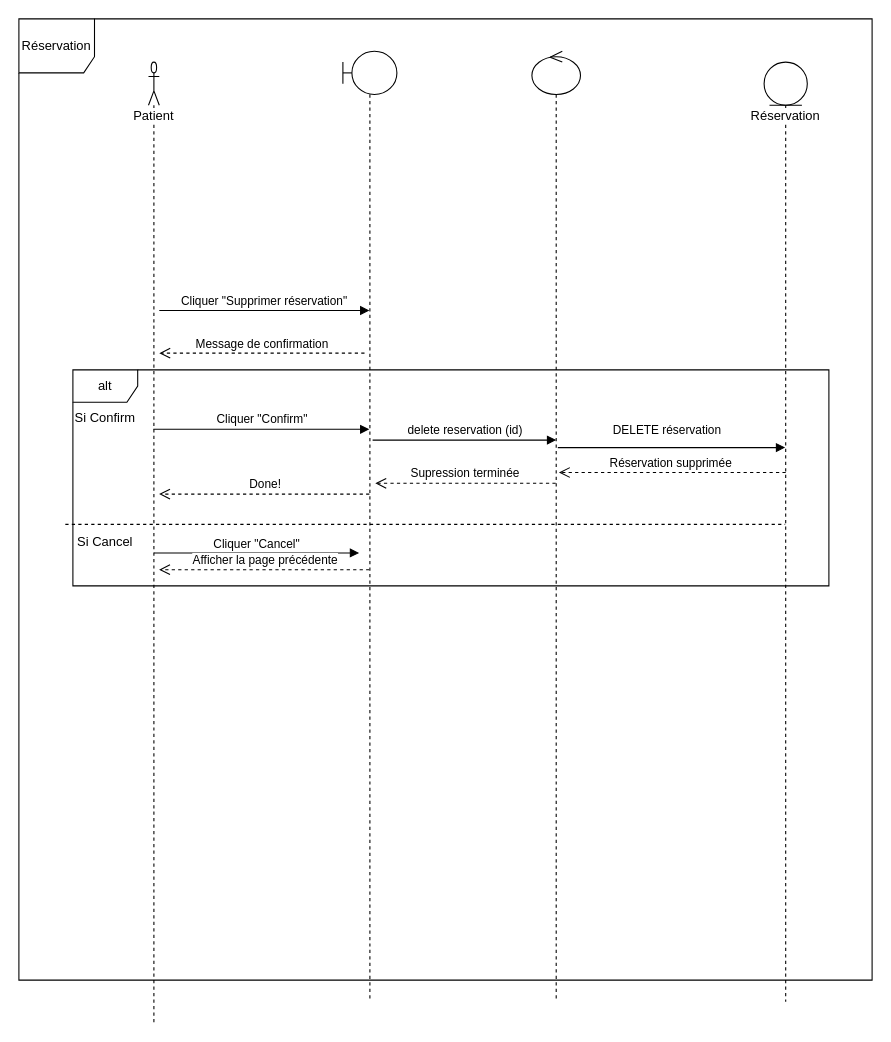
The diagram is 891 pixels wide and 1042 high, and some of its shapes have lost their labels. Each missing label, with the box of its shape:
Réservation Management: (342, 50, 397, 1002)
Réservation Management controller: (531, 50, 580, 1002)
